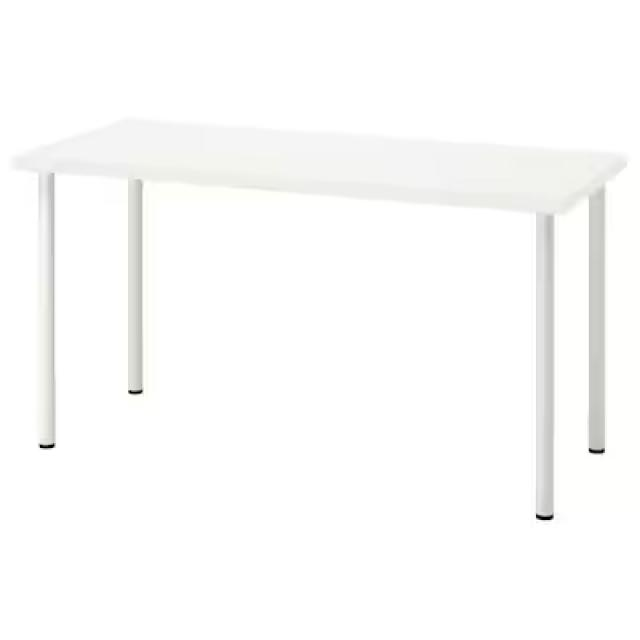table: (5, 98, 637, 532)
